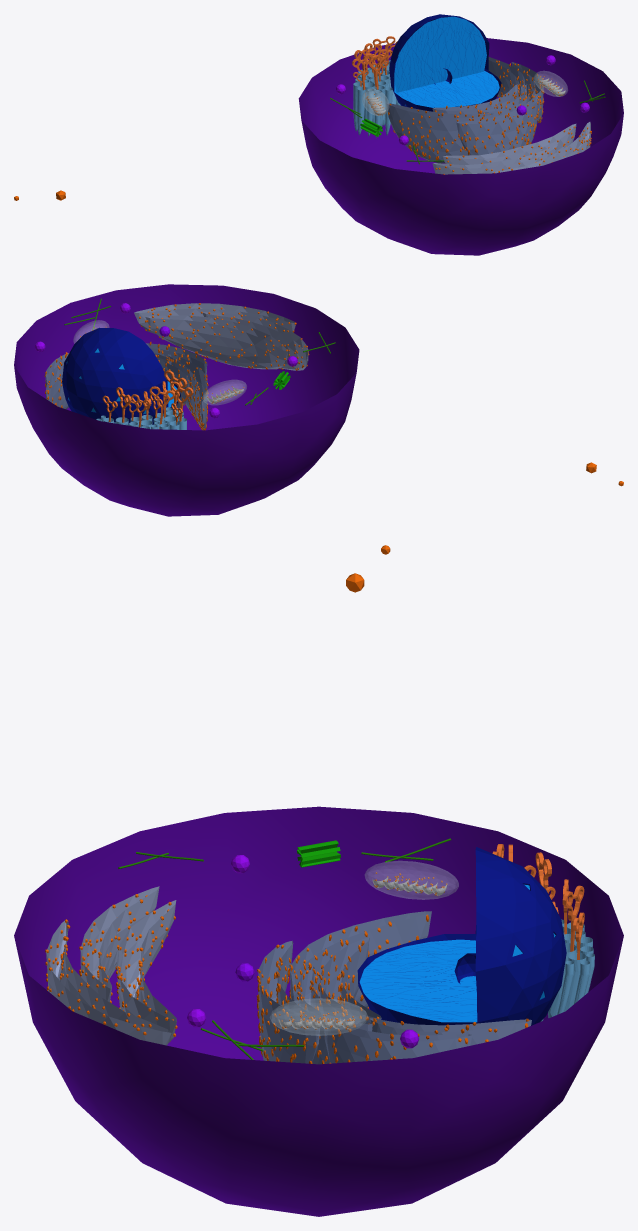
Rendered from animalcell.glb.
The picture shows the model from 3 angles, top to bottom: view 1: azimuth 30°, elevation 25°; view 2: azimuth 150°, elevation 25°; view 3: azimuth 270°, elevation 25°; orthographic projection. The views are drawn at different scales.
Parts seen in each view (by area): view 1: Cell membrane, Nucleus, Rough ER, Golgi Apparatus, Smooth ER Pt 2, Smooth ER Pt 1, Mitochondria, Mitochondria.001; view 2: Cell membrane, Golgi Apparatus, Nucleus, Rough ER, Smooth ER Pt 1, Smooth ER Pt 2, Mitochondria.001; view 3: Cell membrane, Nucleus, Rough ER, Golgi Apparatus, Mitochondria, Mitochondria.001, Smooth ER Pt 2, Smooth ER Pt 1, Centriole.
Boxes of the visible parts, bbox=[...] form: Cell membrane: bbox=[298, 38, 623, 255]; Nucleus: bbox=[389, 14, 501, 111]; Rough ER: bbox=[386, 57, 543, 163]; Golgi Apparatus: bbox=[432, 122, 590, 174]; Smooth ER Pt 2: bbox=[353, 60, 400, 137]; Smooth ER Pt 1: bbox=[352, 36, 397, 95]; Mitochondria: bbox=[534, 71, 567, 96]; Mitochondria.001: bbox=[362, 89, 388, 115]; Cell membrane: bbox=[14, 284, 359, 516]; Golgi Apparatus: bbox=[134, 303, 308, 370]; Nucleus: bbox=[62, 327, 180, 424]; Rough ER: bbox=[45, 343, 207, 429]; Smooth ER Pt 1: bbox=[102, 370, 193, 428]; Smooth ER Pt 2: bbox=[96, 407, 186, 429]; Mitochondria.001: bbox=[202, 380, 246, 404]; Cell membrane: bbox=[14, 806, 623, 1216]; Nucleus: bbox=[357, 847, 566, 1025]; Rough ER: bbox=[258, 911, 531, 1064]; Golgi Apparatus: bbox=[46, 886, 176, 1045]; Mitochondria: bbox=[270, 998, 367, 1035]; Mitochondria.001: bbox=[365, 861, 458, 899]; Smooth ER Pt 2: bbox=[540, 919, 594, 1021]; Smooth ER Pt 1: bbox=[492, 844, 584, 959]; Centriole: bbox=[297, 840, 340, 867].
Bounding box in the file's own units: 15.91 × 5 × 7.9.
Materials: 16 (1 with a texture image).
